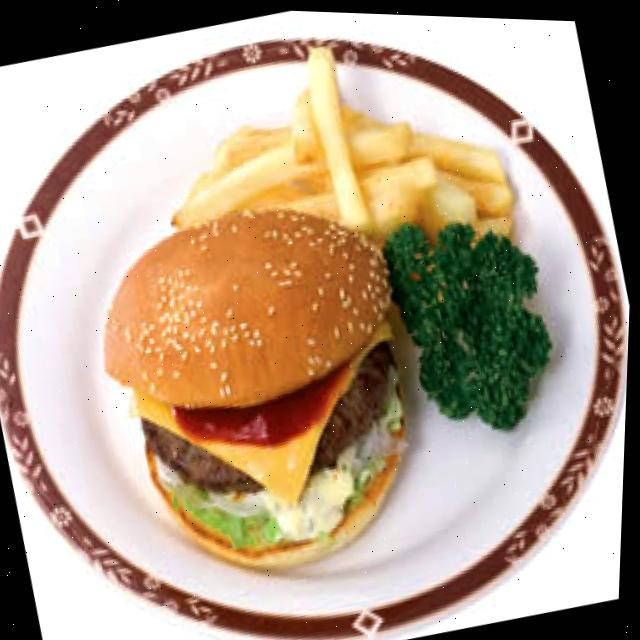汉堡快餐: (66, 165, 454, 599)
